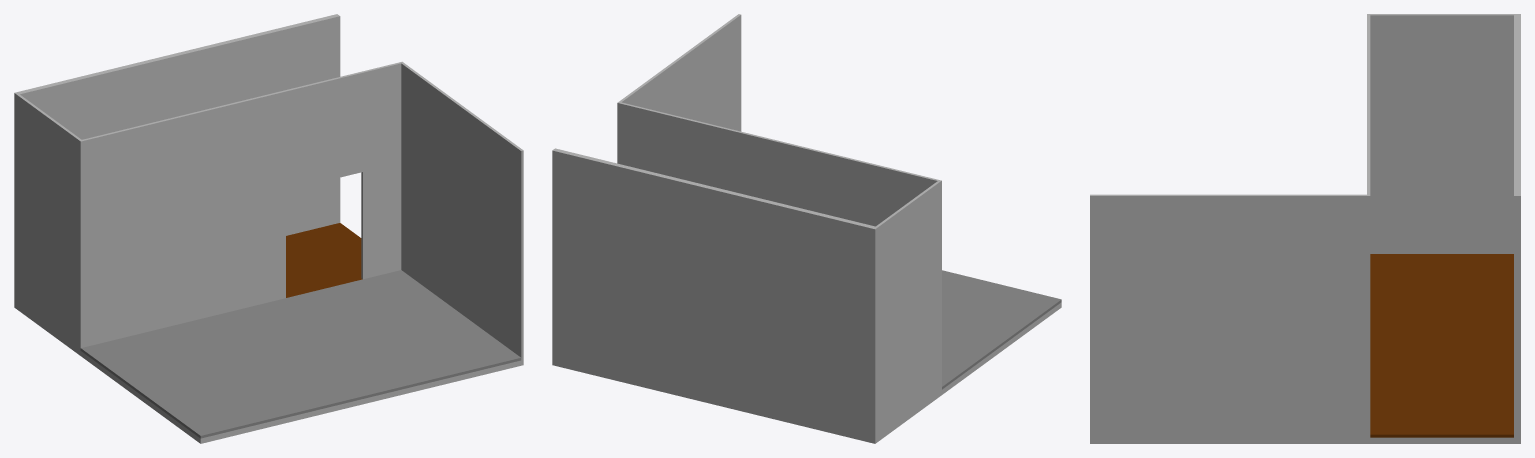
The model's file is 4x2 third (1)-5.obj.
The picture shows the model from 3 angles, left to right: view 1: azimuth 30°, elevation 25°; view 2: azimuth 150°, elevation 25°; view 3: azimuth 270°, elevation 25°; orthographic projection. The views are drawn at different scales.
Visible parts, largest first — view 1: 4x2 third (1)-5; view 2: 4x2 third (1)-5; view 3: 4x2 third (1)-5.
Boxes of the visible parts, x1,y1,x2,y2 form: 4x2 third (1)-5: [14, 14, 523, 443]; 4x2 third (1)-5: [552, 14, 1061, 443]; 4x2 third (1)-5: [1090, 14, 1520, 443].
Bounding box in the file's own units: 126 × 80 × 126.
1 material, 1 textured.
